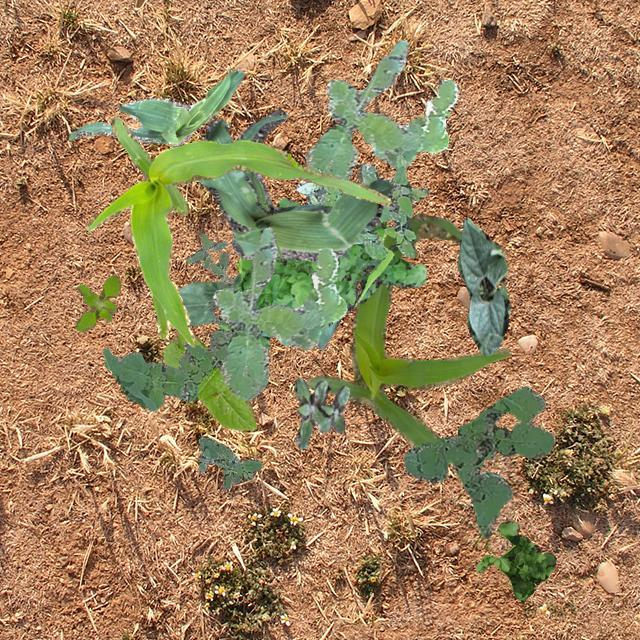crop: (86, 116, 390, 346), (304, 212, 510, 446), (202, 118, 392, 262), (235, 109, 348, 258), (65, 68, 244, 144), (162, 332, 255, 428), (316, 244, 396, 348), (456, 216, 509, 354), (177, 272, 240, 324)
weed: (218, 196, 426, 350), (212, 226, 346, 400), (402, 386, 554, 536), (304, 39, 458, 180), (101, 314, 262, 410), (294, 154, 428, 258), (474, 520, 554, 602), (292, 378, 348, 448), (196, 436, 262, 488), (74, 274, 120, 332), (185, 232, 232, 288)
